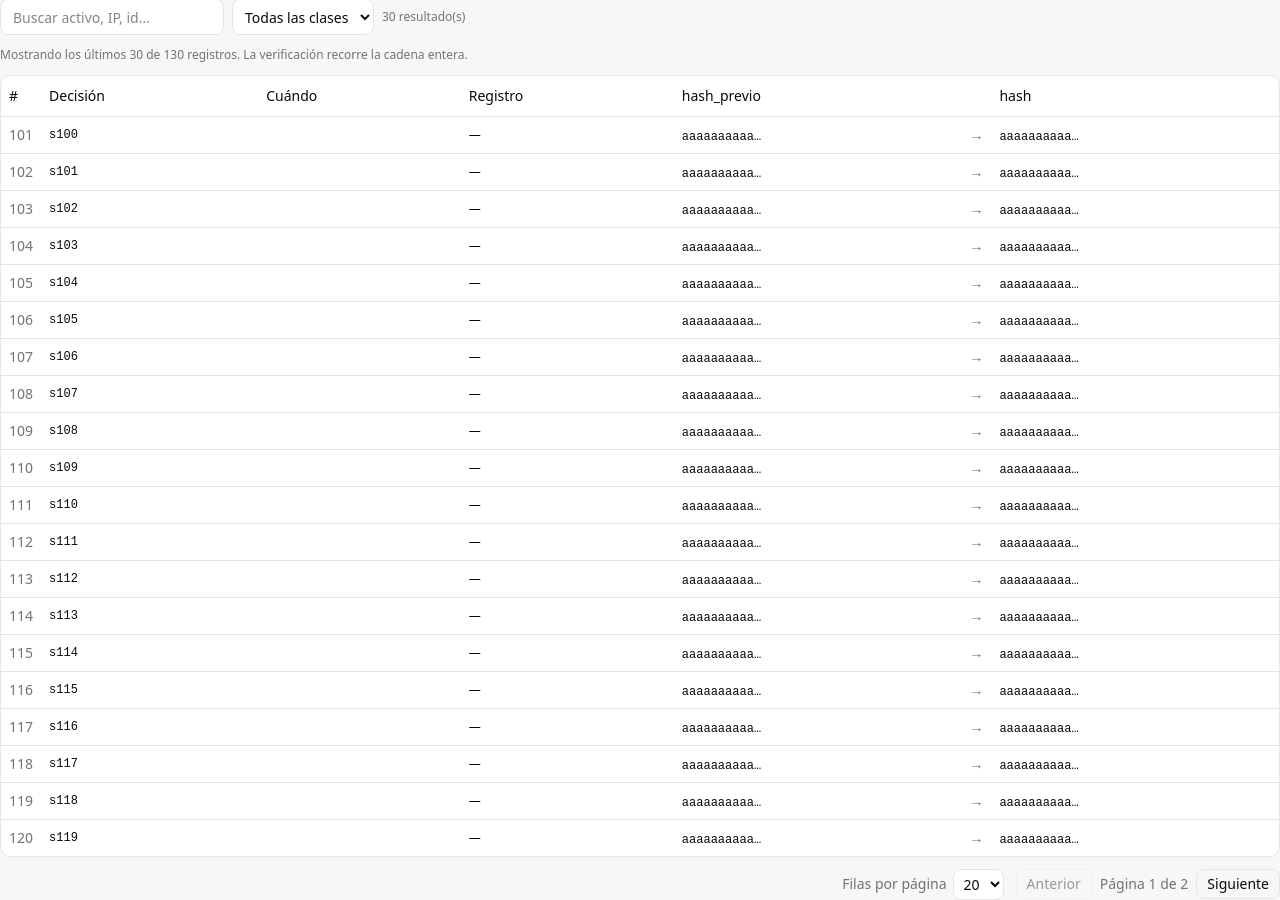
Test: Trazas › pagina la lista con el tamaño por defecto y «Siguiente» avanza
(page scrolled)
Check: the text "s100" is shown, box [41,116,258,153]
Check: the text "s129" is not shown
Click the button "Siguiente": click(1238, 884) [1196,869,1279,899]
(page scrolled)
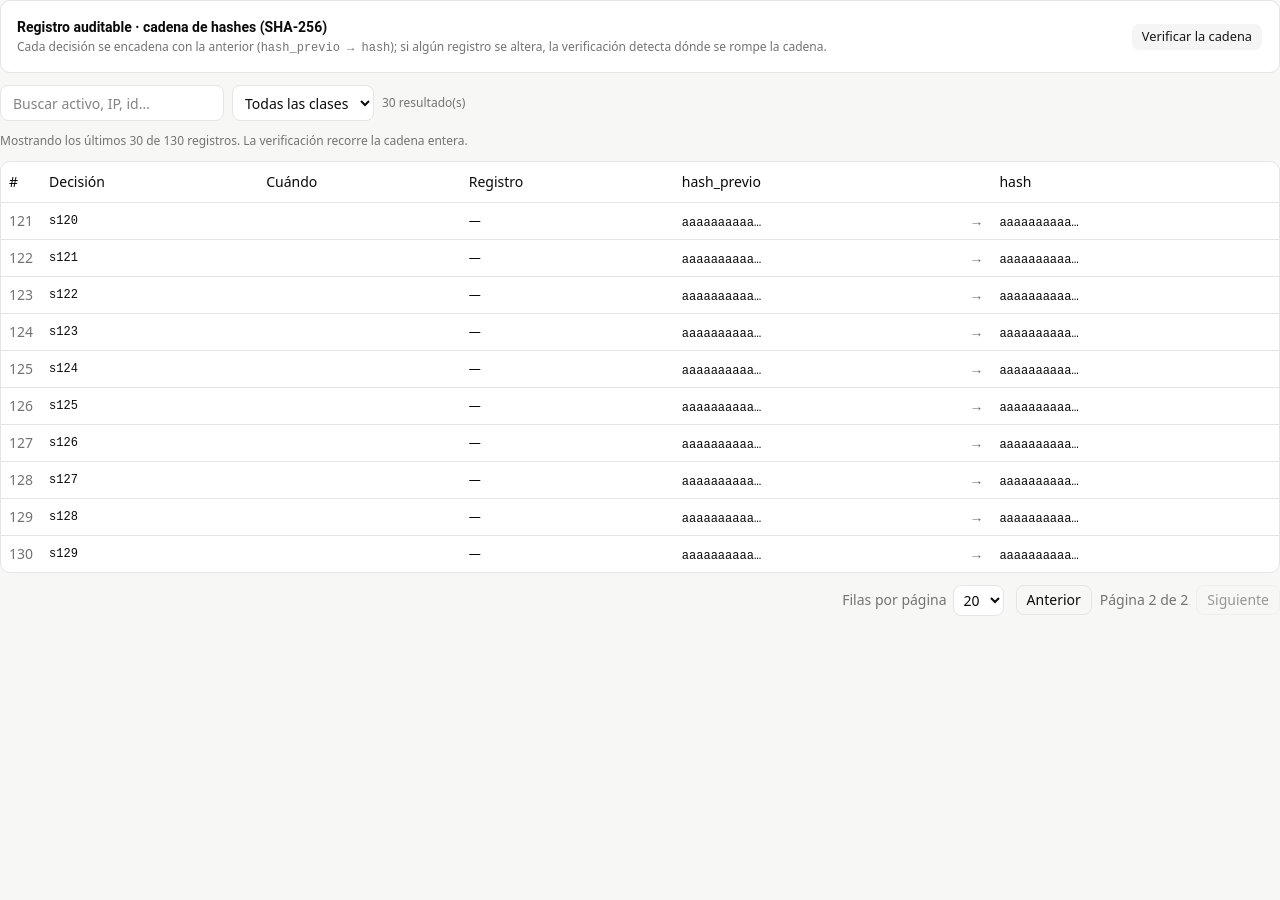
Check: the text "s129" is shown, box [41,535,258,572]
Check: the text "s100" is gone
